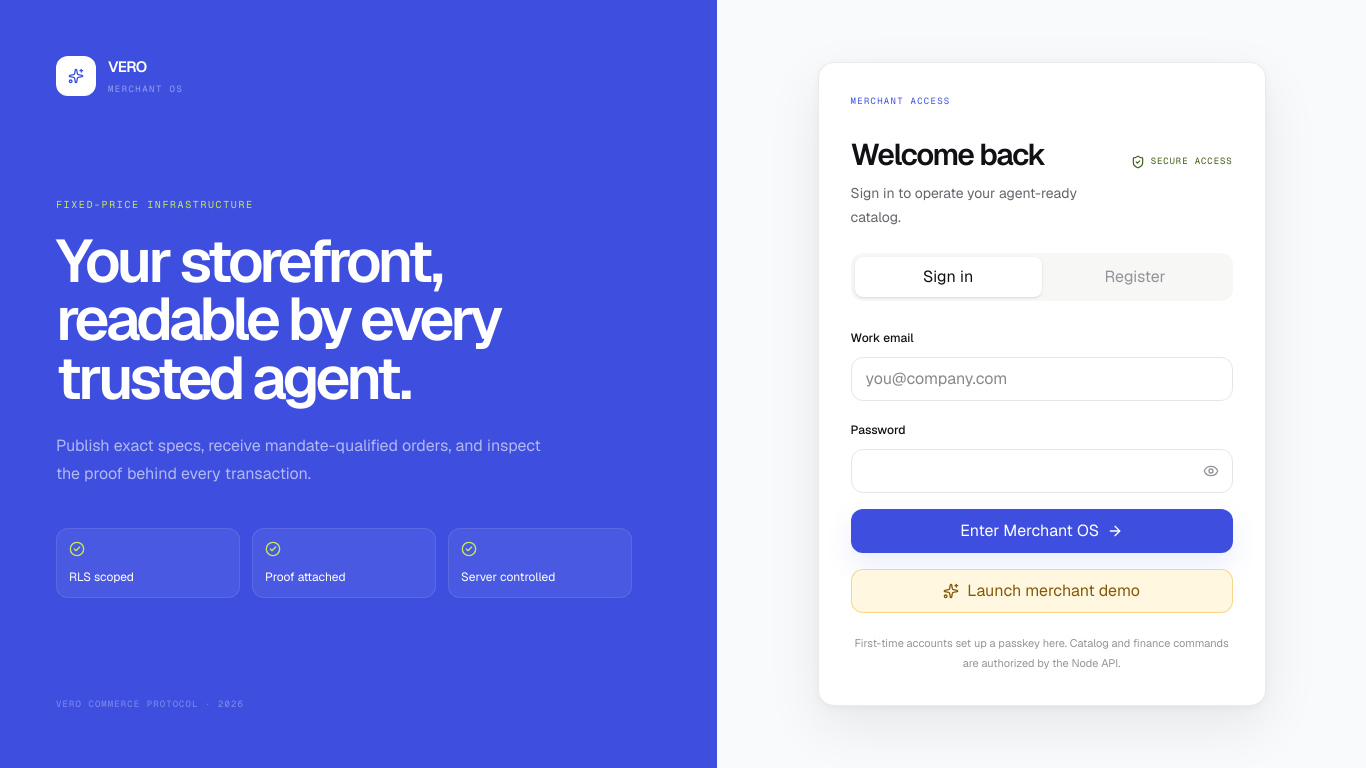
Test: merchant login › can switch accounts before passkey verification
Type "merchant@example.com" into the field labelled "Work email" at (1042, 379), box [851,357,1233,401]
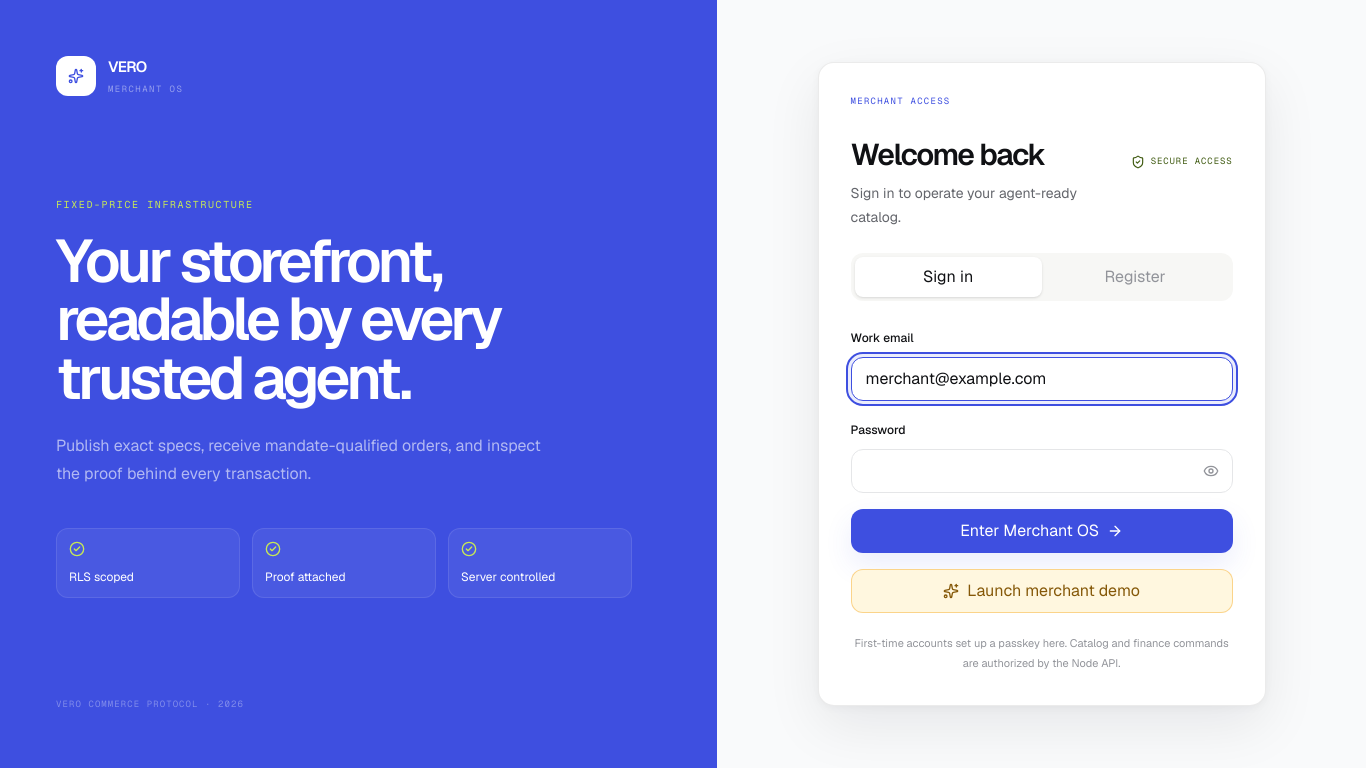
Type "password123" into the password field labelled "Password" at (1042, 471), box [851,449,1233,493]
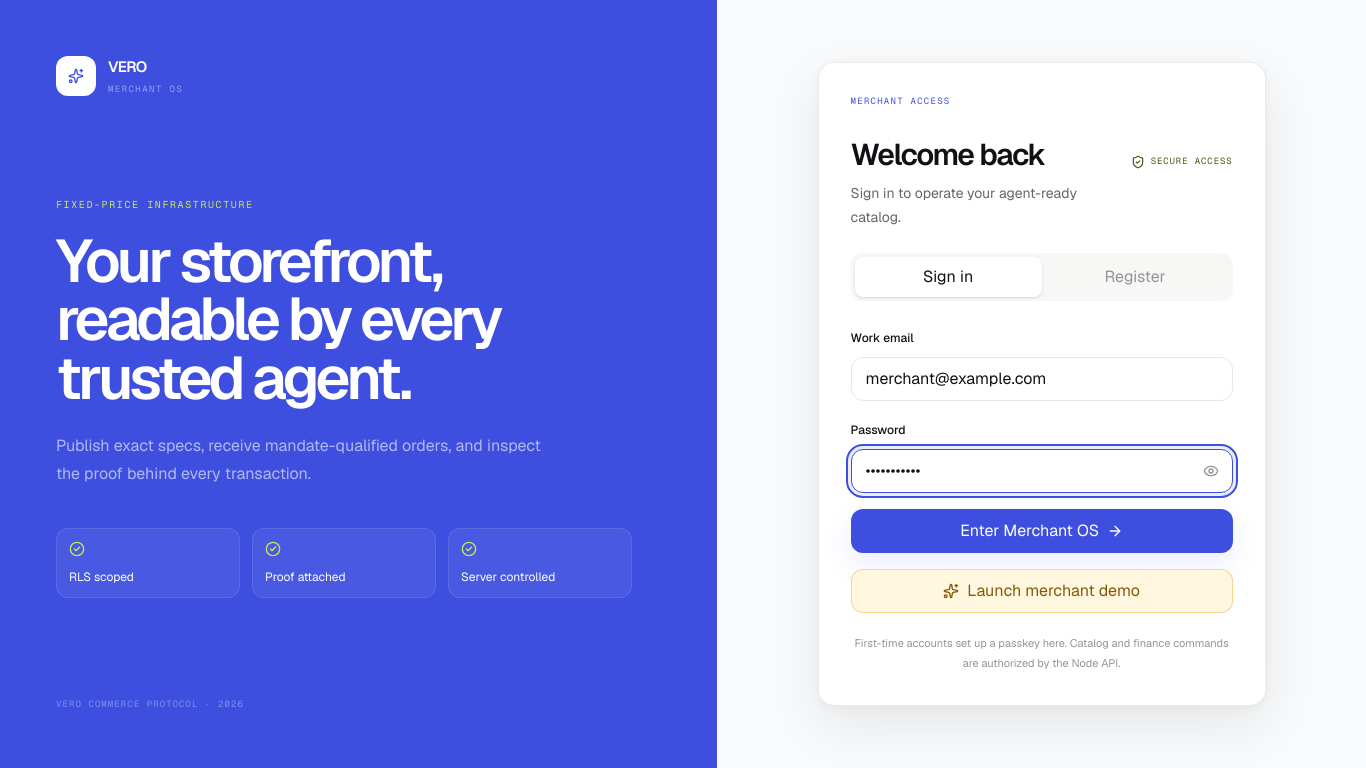
Click the button "Enter Merchant OS" at (1042, 531), box [851,509,1233,553]
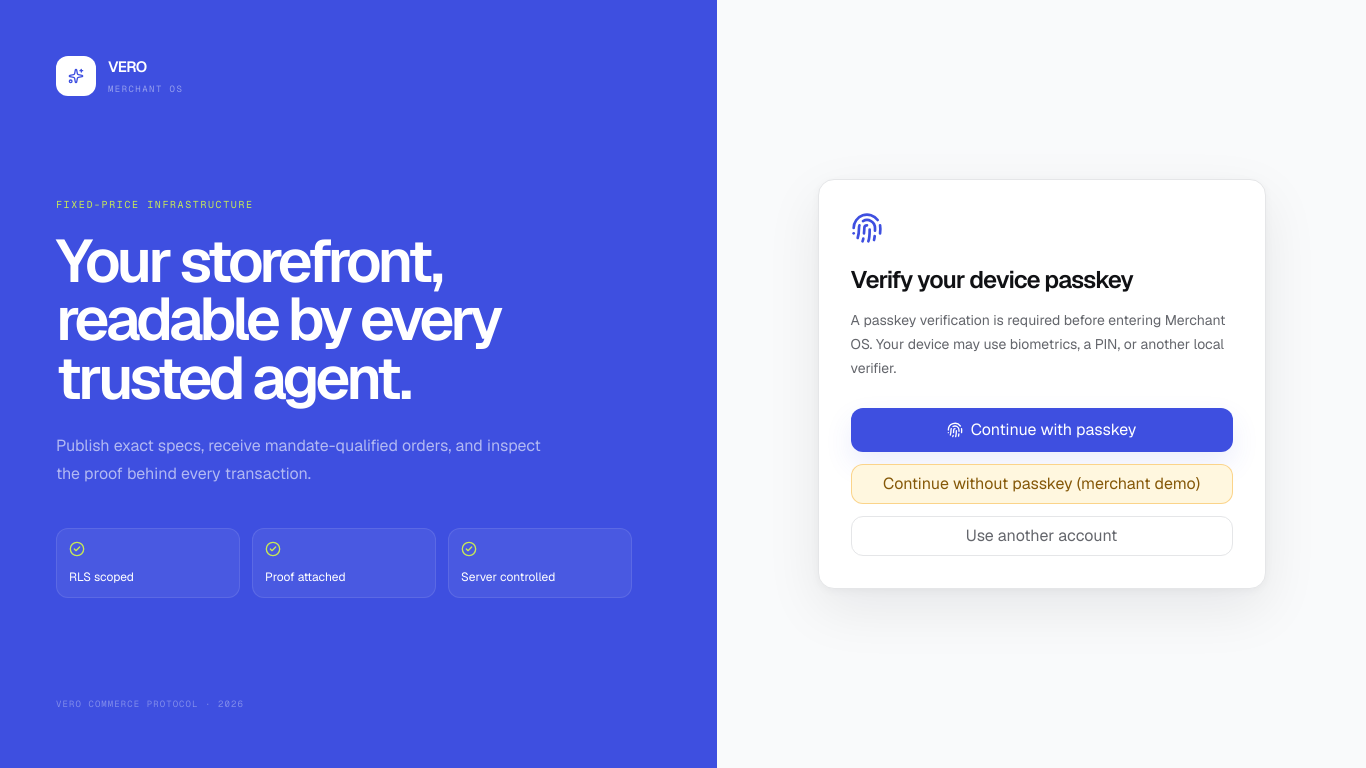
Click the button "Use another account" at (1042, 536), box [851,516,1233,556]
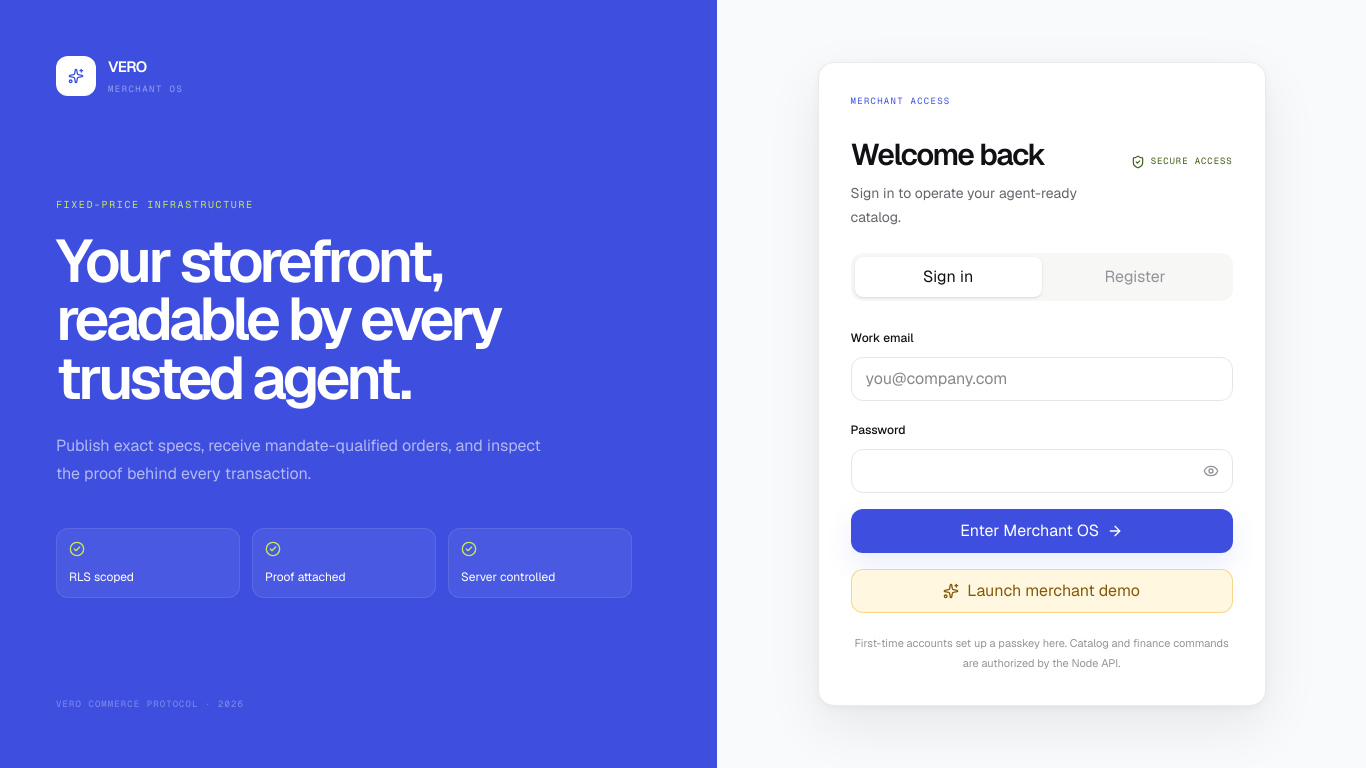
Result: the button "Enter Merchant OS" is shown at [851,509,1233,553]
